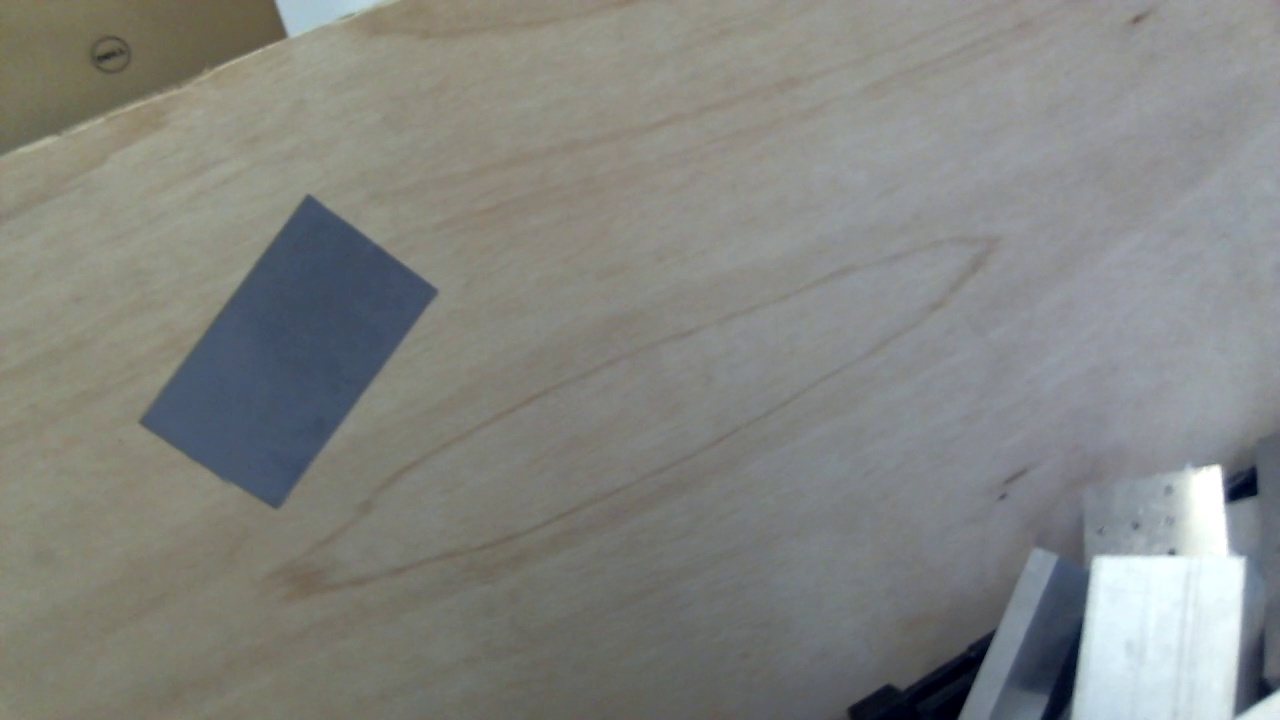Tape: (138, 194, 439, 507)
